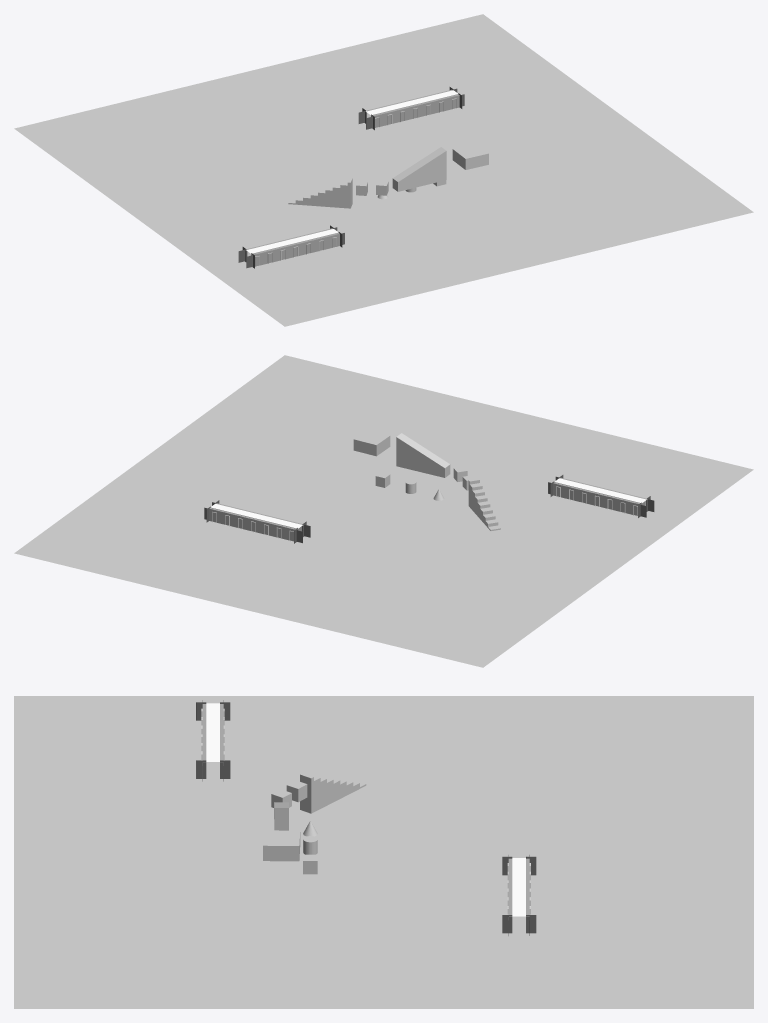
Rendered from test_level_tele.glb.
The picture shows the model from 3 angles, top to bottom: view 1: azimuth 30°, elevation 25°; view 2: azimuth 150°, elevation 25°; view 3: azimuth 270°, elevation 25°; orthographic projection. The views are drawn at different scales.
Parts seen in each view (by area): view 1: Plane, Cube_1, Cube_1.001, Cube.005, Cube.002, Cube.006; view 2: Plane, Cube_1, Cube_1.001, Cube.005, Cube.002, Cube.006; view 3: Plane, Cube.002, Cube_1, Cube_1.001, Cube.006, Cube.005_5, Cube.005_5.001.
Part boxes in pixels (x1=…): Plane: x1=14, y1=14, x2=753, y2=326; Cube_1: x1=365, y1=89, x2=459, y2=128; Cube_1.001: x1=245, y1=228, x2=339, y2=266; Cube.005: x1=392, y1=147, x2=446, y2=191; Cube.002: x1=288, y1=178, x2=352, y2=208; Cube.006: x1=452, y1=143, x2=488, y2=169; Plane: x1=14, y1=355, x2=753, y2=667; Cube_1: x1=209, y1=503, x2=303, y2=541; Cube_1.001: x1=553, y1=478, x2=647, y2=516; Cube.005: x1=396, y1=433, x2=450, y2=477; Cube.002: x1=468, y1=478, x2=500, y2=530; Cube.006: x1=353, y1=429, x2=390, y2=456; Plane: x1=14, y1=696, x2=753, y2=1008; Cube.002: x1=300, y1=773, x2=366, y2=813; Cube_1: x1=508, y1=858, x2=529, y2=916; Cube_1.001: x1=202, y1=703, x2=223, y2=762; Cube.006: x1=263, y1=830, x2=300, y2=861; Cube.005_5: x1=502, y1=856, x2=536, y2=933; Cube.005_5.001: x1=196, y1=702, x2=230, y2=778.
Size of the model in its own units: 101 by 8.96 by 101.
12 materials, 2 textured.
